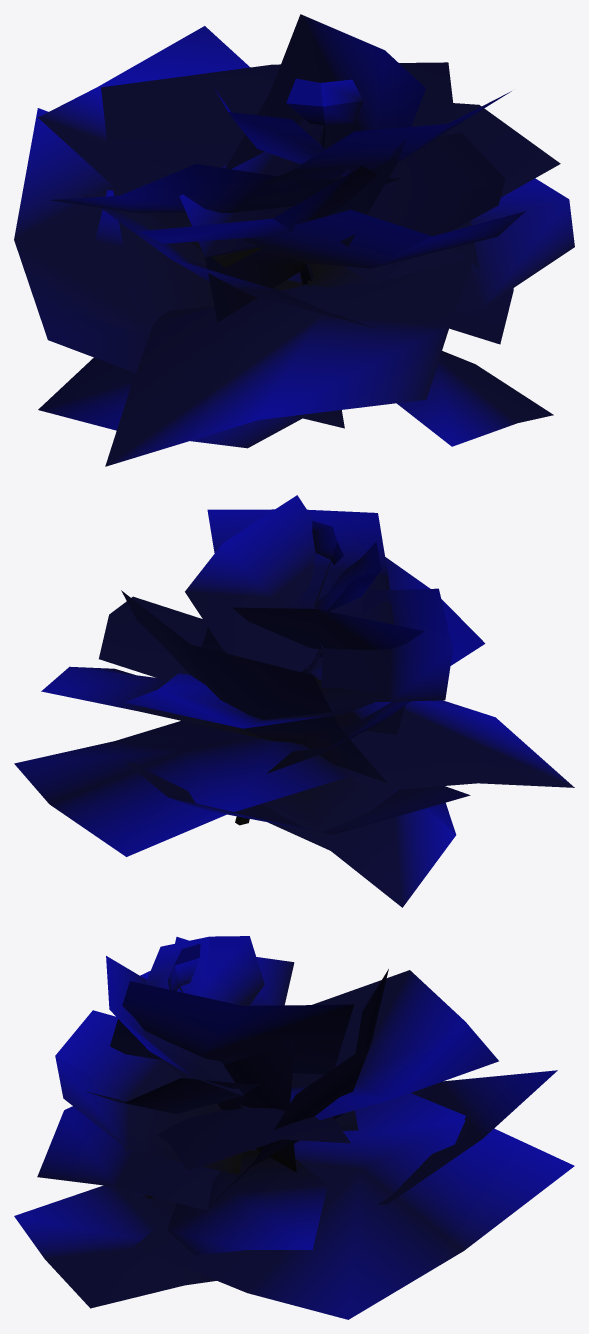
The model's file is SM_Foliage_ShrubB_02.fbx.
3 views of the same model, one above another, from view 1: azimuth 30°, elevation 25°; view 2: azimuth 150°, elevation 25°; view 3: azimuth 270°, elevation 25° (orthographic). The views are drawn at different scales.
Visible parts, largest first — view 1: SM_Foliage_ShrubB_02; view 2: SM_Foliage_ShrubB_02; view 3: SM_Foliage_ShrubB_02.
Boxes of the visible parts, bbox=[...] form: SM_Foliage_ShrubB_02: bbox=[14, 14, 574, 466]; SM_Foliage_ShrubB_02: bbox=[14, 495, 574, 907]; SM_Foliage_ShrubB_02: bbox=[14, 936, 574, 1319].
Size of the model in its own units: 365 by 378 by 223.
